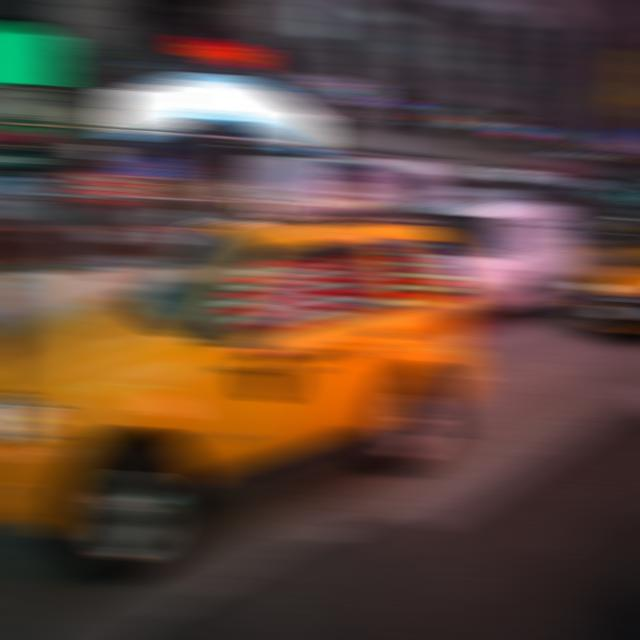Taxi: (0, 227, 537, 578)
